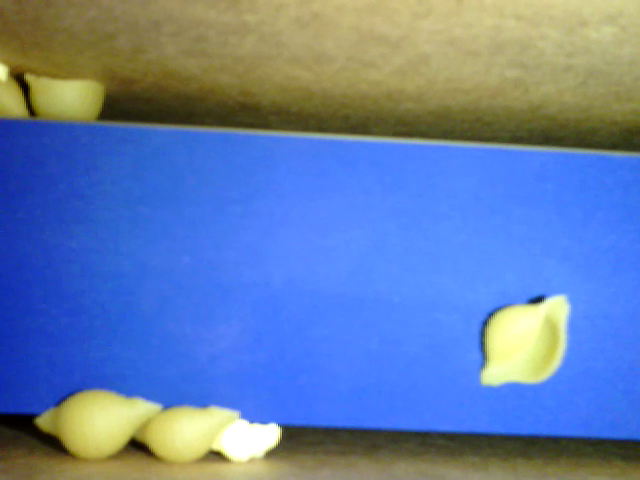shell: (33, 388, 163, 462), (476, 290, 571, 391), (133, 401, 242, 461), (24, 72, 110, 124)
